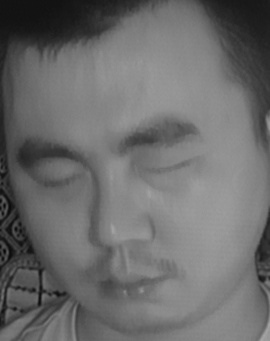blink: (139, 149, 199, 188), (32, 162, 86, 201)
mouth: (87, 256, 174, 309)
